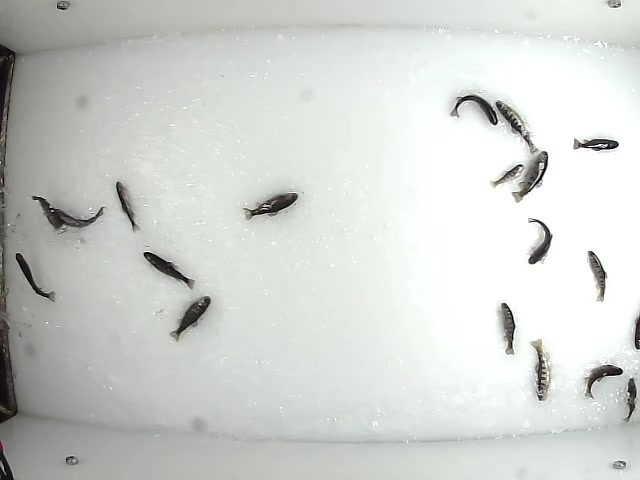fish: (491, 97, 539, 157), (13, 250, 58, 302), (142, 250, 196, 292), (509, 150, 547, 205), (169, 293, 211, 342), (241, 190, 298, 222), (449, 93, 498, 128), (524, 217, 556, 267), (581, 362, 622, 401), (28, 193, 67, 233), (529, 335, 552, 402), (50, 202, 107, 228), (115, 181, 141, 237), (586, 248, 609, 304), (487, 162, 524, 191), (497, 301, 516, 356), (618, 377, 637, 424), (569, 136, 621, 152)
